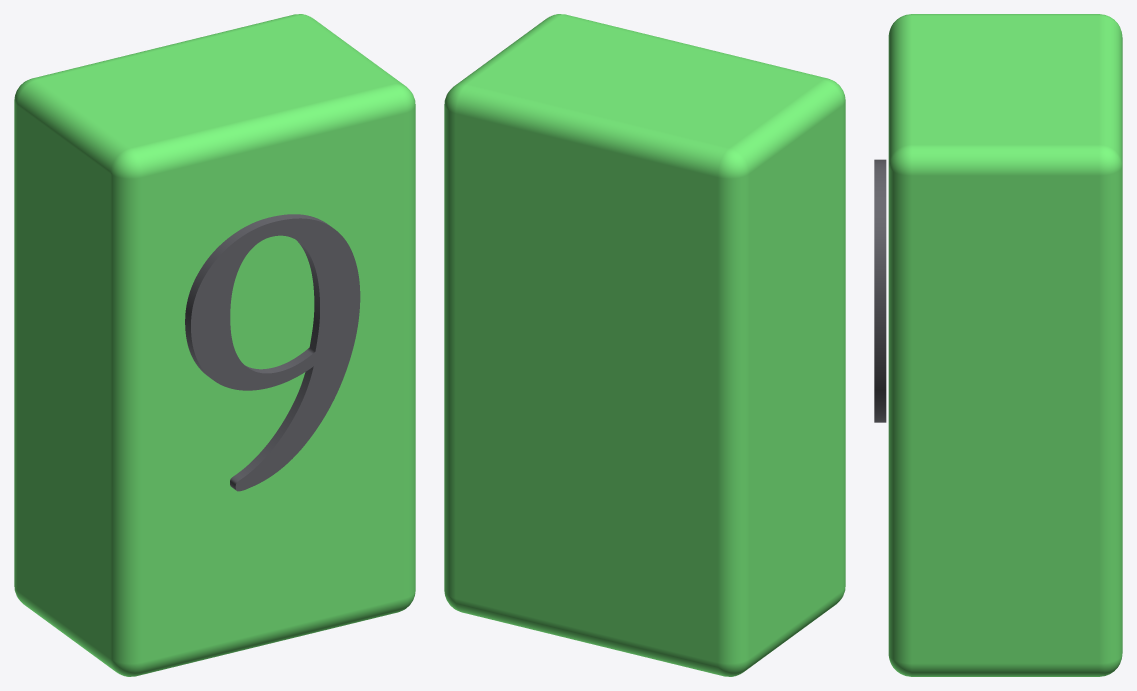
Rendered from pin_9.gltf.
3 views of the same model, side by side, from view 1: azimuth 30°, elevation 25°; view 2: azimuth 150°, elevation 25°; view 3: azimuth 270°, elevation 25° (orthographic).
Parts seen in each view (by area): view 1: White, Black; view 2: White; view 3: White, Black.
Part boxes in pixels (x1,y1,x2,y2): White: (14,14,415,676); Black: (185,214,360,491); White: (444,14,845,676); White: (888,14,1122,676); Black: (874,159,886,422).
Size of the model in its own units: 1.5 by 2.5 by 1.06.
